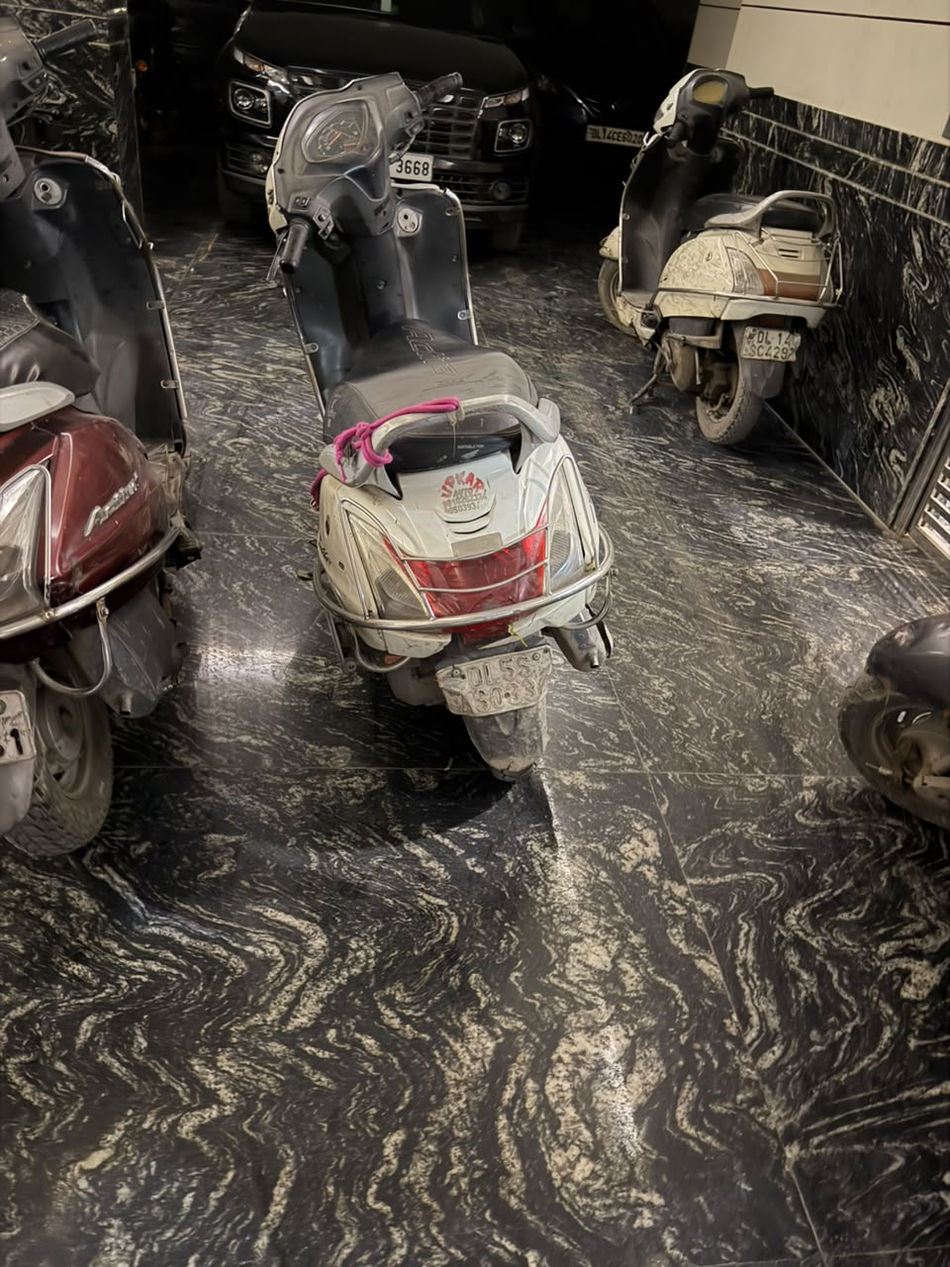vehicle: (436, 648, 542, 720)
